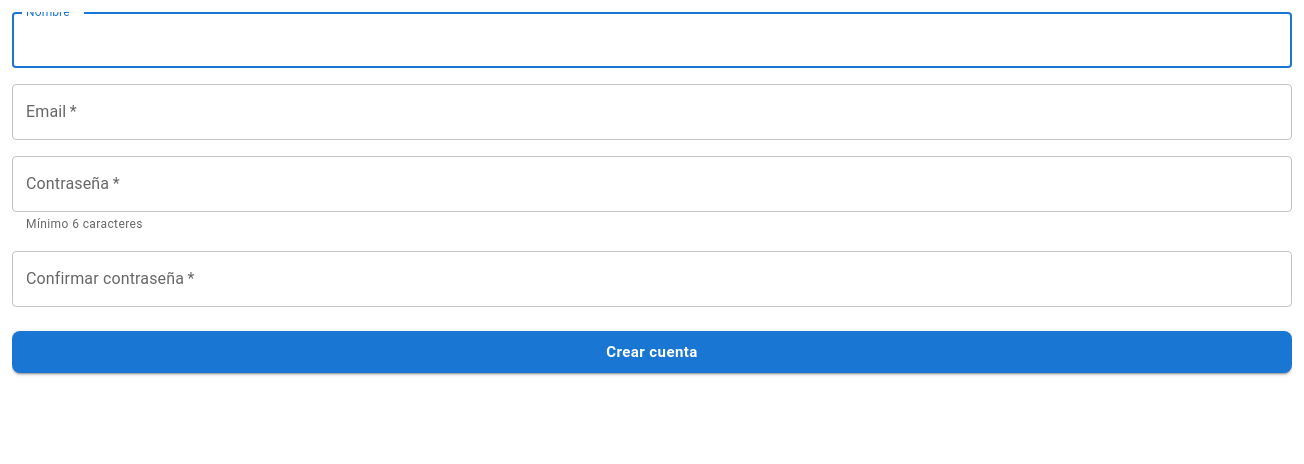
it: RegisterForm › shows error when submitting with empty fields
What coordinates should you click on to do the following:
click the button "Crear cuenta"
I would click on:
 (652, 352)
Its box is [12,331,1292,373].
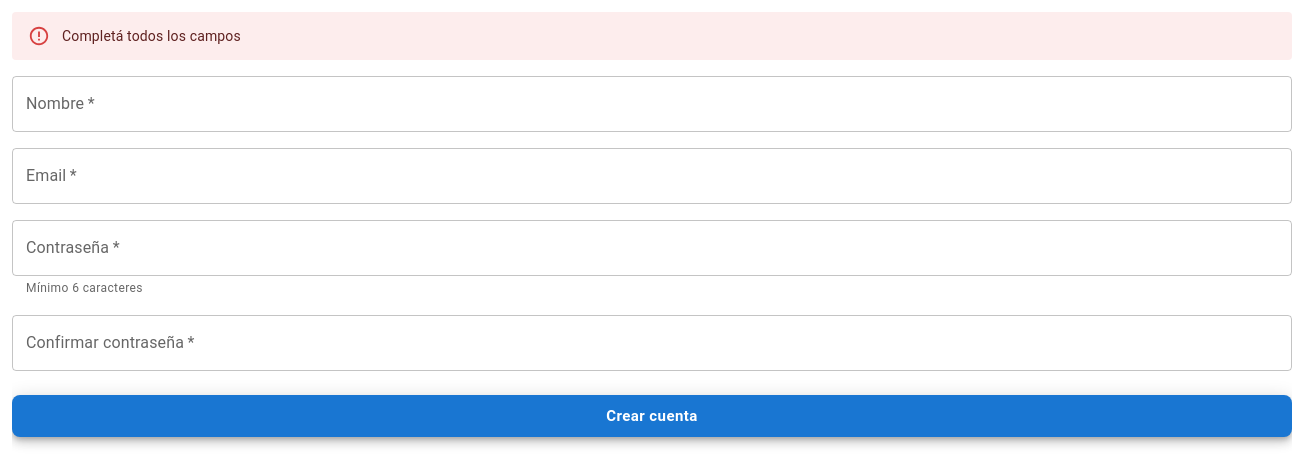
Result: the text "Completá todos los campos" is shown at [62,28,241,44]
